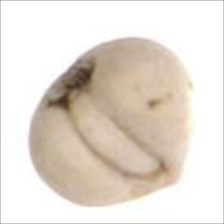L5: (69, 89, 166, 182), (37, 50, 100, 114), (145, 151, 188, 194)
L6: (25, 35, 196, 209)
